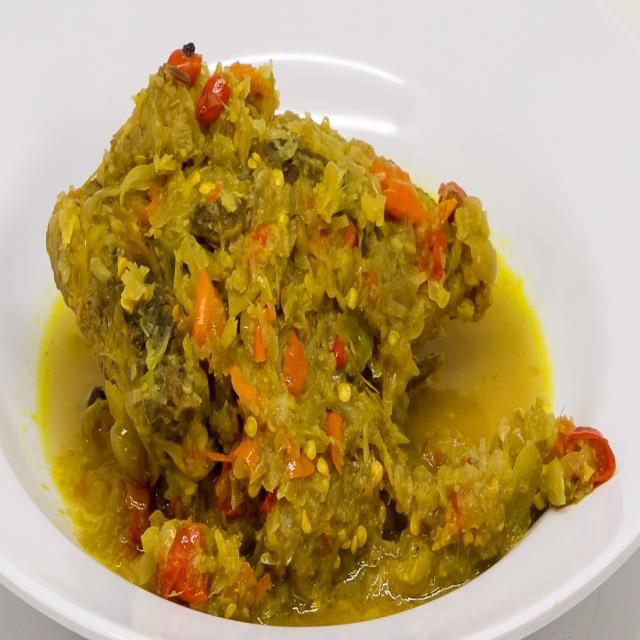Ayam-Betutu: (38, 29, 624, 616)
